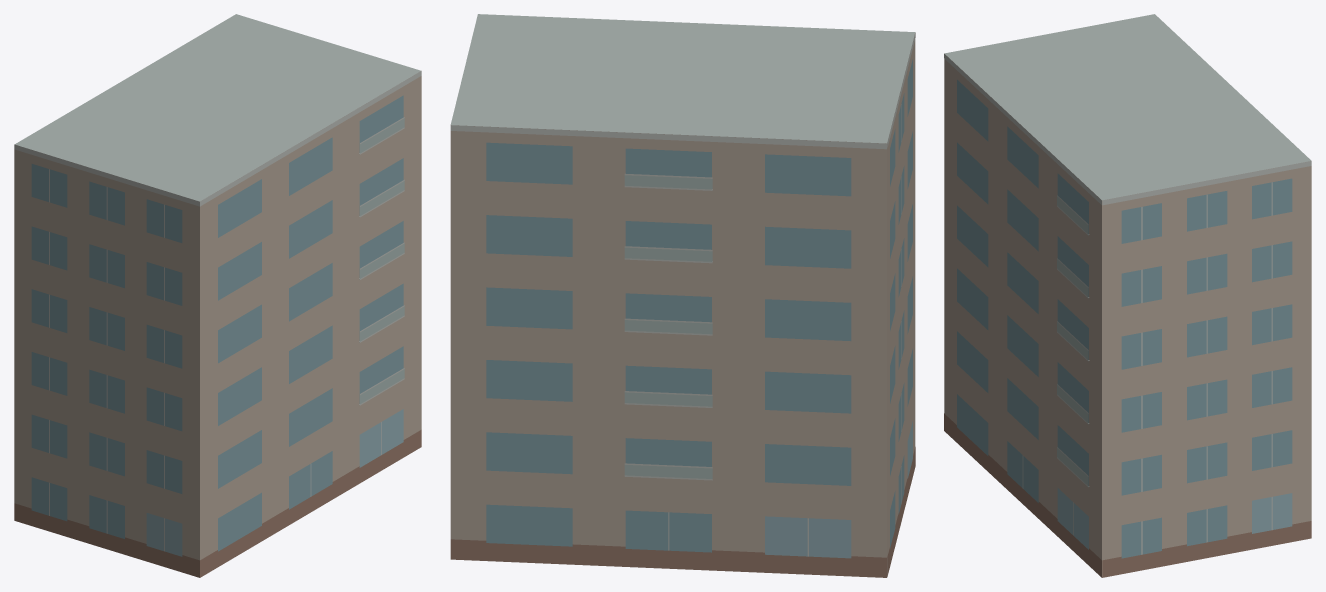
File: survey-upis-33042443.glb
3 views of the same model, side by side, from view 1: azimuth 30°, elevation 25°; view 2: azimuth 150°, elevation 25°; view 3: azimuth 270°, elevation 25° (orthographic). The views are drawn at different scales.
Parts seen in each view (by area): view 1: survey-upis-33042443.tmp; view 2: survey-upis-33042443.tmp; view 3: survey-upis-33042443.tmp.
Part boxes in pixels (<box>): survey-upis-33042443.tmp: <box>14,14,421,577</box>; survey-upis-33042443.tmp: <box>450,14,915,577</box>; survey-upis-33042443.tmp: <box>944,14,1311,577</box>.
Size of the model in its own units: 19.39 by 18.3 by 16.16.
